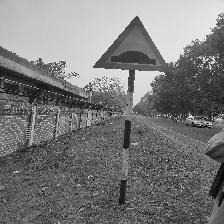Speed-breaker: (97, 23, 164, 68)
